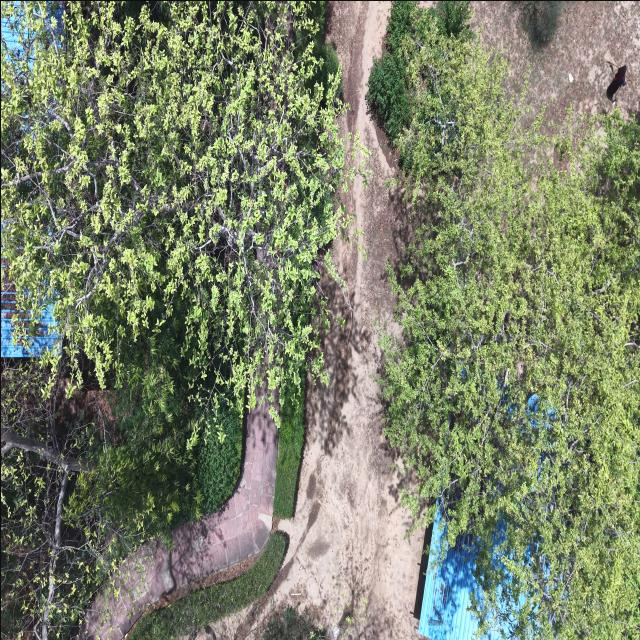DRY_AREA: (214, 1, 422, 639), (214, 1, 421, 639), (265, 1, 421, 639), (274, 1, 421, 638), (471, 1, 639, 120), (139, 551, 261, 618)
PATHWAYS: (79, 402, 276, 639)
ROOFTOP_BUILDING: (415, 502, 506, 639), (418, 507, 499, 639), (418, 509, 476, 639), (1, 266, 59, 356), (1, 268, 59, 356)
VEGETATION_TREE: (1, 1, 350, 639), (1, 2, 345, 529), (367, 1, 639, 639), (1, 2, 345, 403), (1, 342, 241, 638), (1, 361, 241, 638), (1, 362, 154, 639), (1, 416, 158, 639), (107, 315, 241, 543), (366, 1, 515, 199), (108, 305, 201, 539), (111, 378, 242, 544), (128, 531, 286, 639), (128, 532, 284, 639), (366, 1, 414, 140), (196, 401, 242, 512), (273, 367, 304, 517), (510, 1, 566, 51), (310, 2, 339, 85), (262, 608, 326, 639)
